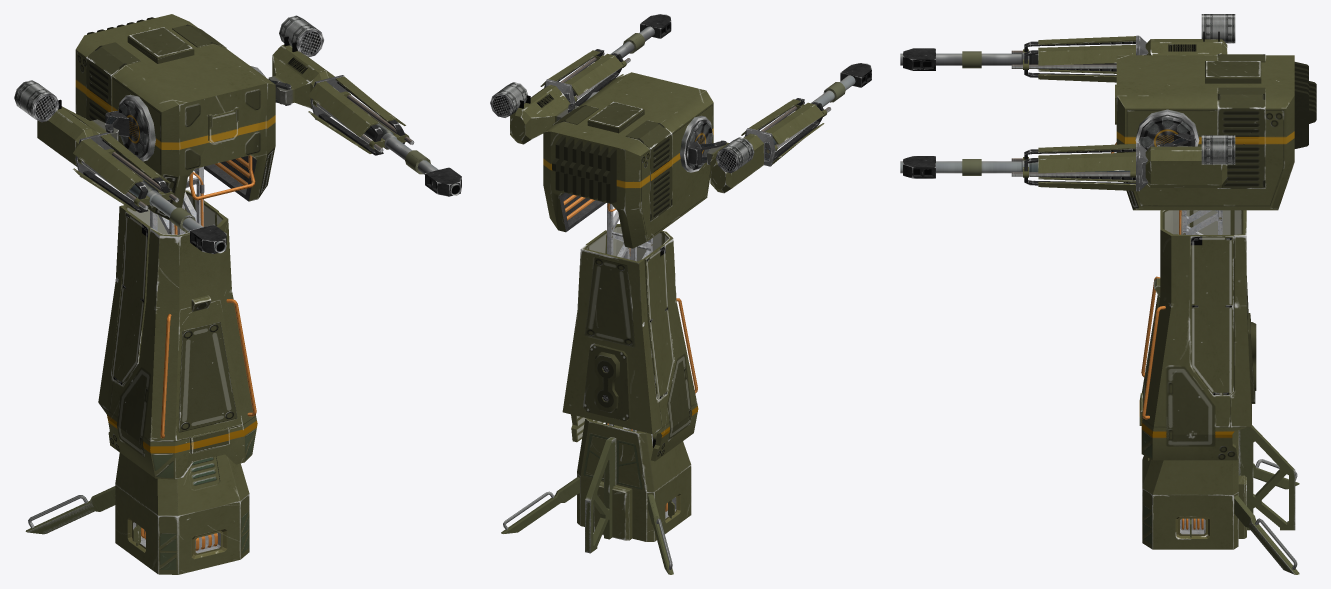
Rendered from turret_tower_03.fbx.
3 views of the same model, side by side, from view 1: azimuth 30°, elevation 25°; view 2: azimuth 150°, elevation 25°; view 3: azimuth 270°, elevation 25° (orthographic). The views are drawn at different scales.
Parts seen in each view (by area): view 1: body (×3), head, tower_base, tower_body_door_right, barrel (×2), tower_head_door_right, decor3, tower_leg, holder, body_frame, tower_head_door_center, decor (+3 smaller); view 2: body (×3), head, tower_base, decor3, tower_leg, tower_body_door_right, tower_body_door_rear, tower_head_door_right, barrel (×2), body_frame, holder; view 3: body (×3), head, tower_base, tower_body_door_left, tower_leg, barrel (×2), tower_head_door_left, decor3, holder, body_frame, tower_body_door_right, tower_body_door_rear.
Boxes of the visible parts, x1,y1,x2,y2 form: body (×3): (14, 15, 414, 479); head: (75, 14, 275, 220); tower_base: (115, 453, 249, 574); tower_body_door_right: (111, 211, 150, 385); barrel (×2): (129, 121, 461, 253); tower_head_door_right: (86, 42, 140, 122); decor3: (87, 17, 194, 63); tower_leg: (25, 486, 115, 534); holder: (118, 99, 149, 158); body_frame: (150, 166, 204, 234); tower_head_door_center: (208, 108, 238, 144); decor: (189, 155, 255, 200); body (×3): (490, 49, 831, 461); head: (543, 72, 713, 248); tower_base: (577, 418, 691, 541); decor3: (552, 101, 644, 203); tower_leg: (501, 437, 673, 574); tower_body_door_right: (643, 244, 674, 399); tower_body_door_rear: (583, 344, 630, 421); tower_head_door_right: (625, 120, 672, 221); barrel (×2): (572, 14, 871, 144); body_frame: (607, 203, 652, 445); holder: (685, 119, 712, 170); body (×3): (1011, 14, 1251, 460); head: (1116, 55, 1294, 210); tower_base: (1142, 430, 1246, 549); tower_body_door_left: (1190, 235, 1233, 395); tower_leg: (1234, 425, 1299, 574); barrel (×2): (900, 48, 1130, 178); tower_head_door_left: (1217, 87, 1265, 188); decor3: (1205, 61, 1316, 148); holder: (1138, 114, 1196, 150); body_frame: (1179, 210, 1222, 234); tower_body_door_right: (1190, 210, 1233, 234); tower_body_door_rear: (1248, 313, 1256, 403).
Bounding box in the file's own units: 9.96 × 15.97 × 13.1.
